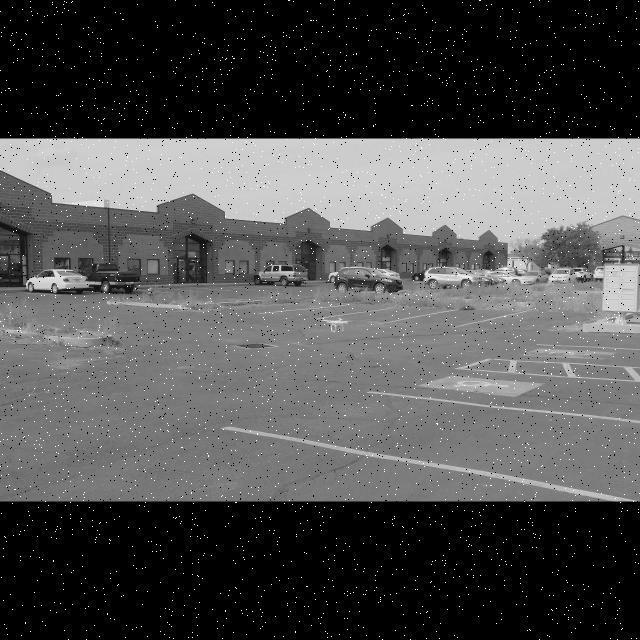Drons: (316, 311, 354, 337)
